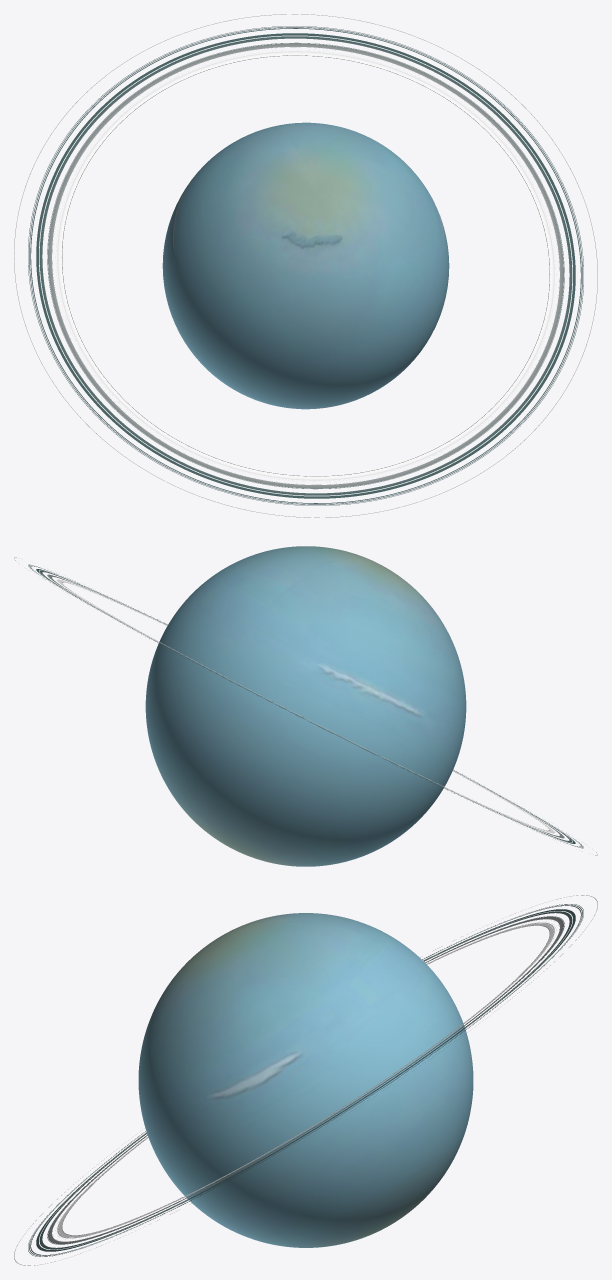
The model's file is Uranus.glb.
3 views of the same model, one above another, from view 1: azimuth 30°, elevation 25°; view 2: azimuth 150°, elevation 25°; view 3: azimuth 270°, elevation 25° (orthographic). The views are drawn at different scales.
Parts seen in each view (by area): view 1: node_id6, node_id9; view 2: node_id6, node_id9; view 3: node_id6, node_id9.
Boxes of the visible parts, bbox=[...] form: node_id6: bbox=[162, 122, 449, 409]; node_id9: bbox=[14, 14, 597, 517]; node_id6: bbox=[145, 546, 466, 866]; node_id9: bbox=[14, 557, 597, 855]; node_id6: bbox=[138, 913, 473, 1247]; node_id9: bbox=[14, 895, 597, 1265].
Size of the model in its own units: 0.4992 by 0.2901 by 0.4368.
Materials: 2 (2 with a texture image).
